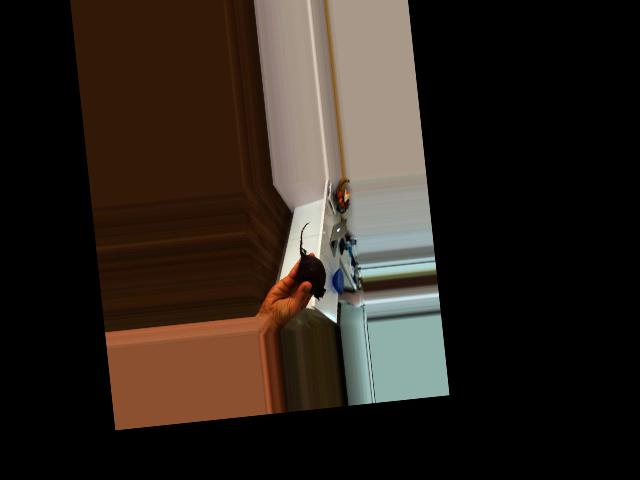beet: (292, 220, 328, 301)
